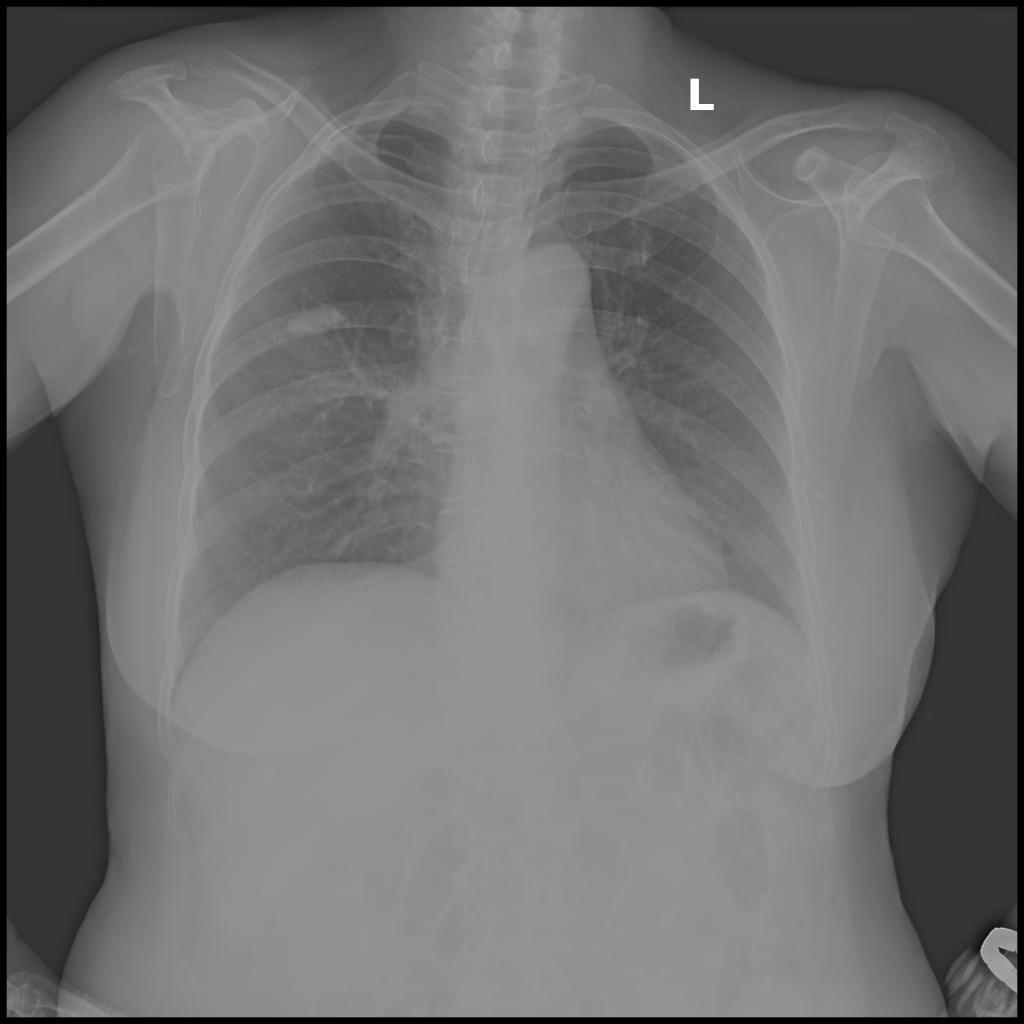Nodule: (283, 312, 342, 332)
